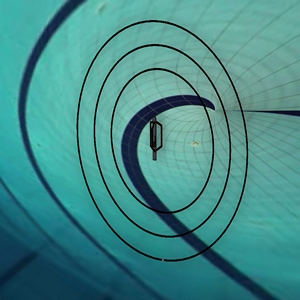circle: (63, 10, 283, 278)
submarine: (132, 112, 176, 165)
